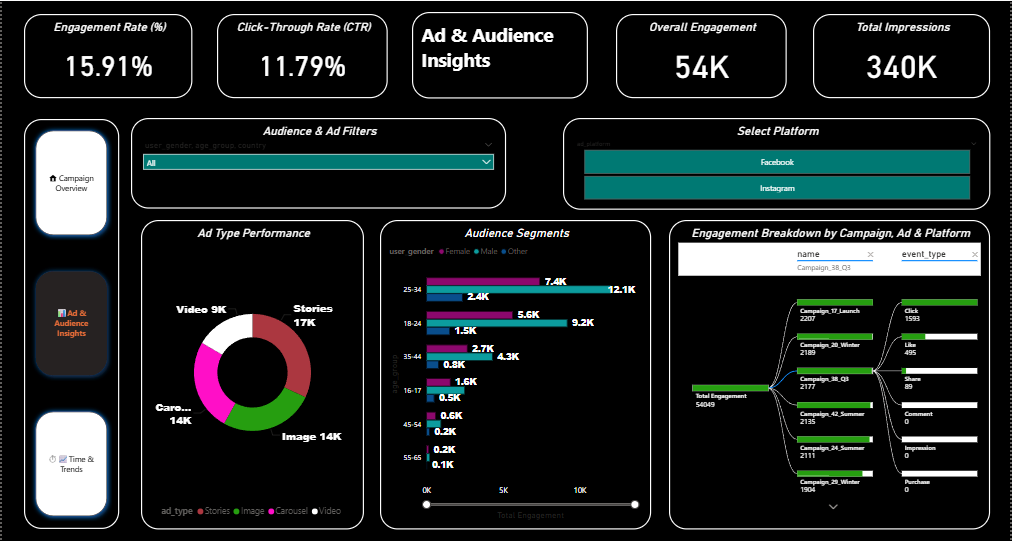

The page's visual inventory and layout, read from the dashboard file:
{"tool":"powerbi","page":{"name":"📊Ad & Audience Insights","canvas":[1736,930],"ordinal":1},"visuals":[{"type":"card","title":"Engagement Rate (%)","fields":{"Values":["Meaasure Table.Engagement Rate"]},"box":[37.6,22.6,289.9,144.9],"z":0},{"type":"card","title":"Total Impressions","fields":{"Values":["Meaasure Table.Total Impressions"]},"box":[1396.7,22.6,304.9,144.9],"z":1000},{"type":"card","title":"Overall Engagement","fields":{"Values":["Meaasure Table.Total Engagement"]},"box":[1057.9,22.6,293.6,144.9],"z":2000},{"type":"donutChart","title":"Ad Type Performance","fields":{"Category":["social_media_ad ads.ad_type"],"Y":["Meaasure Table.Total Engagement"]},"box":[239.1,376.5,384,532.7],"z":3000},{"type":"clusteredBarChart","title":"Audience Segments","fields":{"Category":["social_media_ad users.age_group"],"Y":["Meaasure Table.Total Engagement"],"Series":["social_media_ad users.user_gender"]},"box":[651.3,376.5,466.8,532.7],"z":4000},{"type":"decompositionTreeVisual","title":"Engagement Breakdown by Campaign, Ad & Platform","fields":{"Analyze":["Meaasure Table.Total Engagement"],"ExplainBy":["social_media_ad campaigns.name","social_media_ad adevents.event_type","social_media_ad ads.ad_platform","social_media_ad ads.ad_id"]},"box":[1148.2,376.5,553.4,532.7],"z":5000},{"type":"slicer","title":"Select Platform","fields":{"Values":["social_media_ad ads.ad_platform"]},"box":[965.6,201.4,736,158.1],"z":6000},{"type":"slicer","title":"Audience & Ad Filters","fields":{"Values":["social_media_ad users.user_gender","social_media_ad users.age_group","social_media_ad users.country"]},"box":[222.1,201.4,645.6,156.2],"z":7000},{"type":"pageNavigator","box":[37.6,203.3,163.8,705.9],"z":8000},{"type":"card","title":"Click-Through Rate (CTR)","fields":{"Values":["Meaasure Table.CTR"]},"box":[370.8,22.6,293.6,144.9],"z":9000},{"type":"textbox","box":[705.9,18.8,303.1,148.7],"z":10000}]}

Visuals, with their boxes in screenshot pixels (x1, y1, x2, y2), scaled from the page's 1736x930 canvas onto the 1012x541 screenshot:
"Engagement Rate (%)" card: <bbox>22, 13, 191, 97</bbox>
"Total Impressions" card: <bbox>814, 13, 992, 97</bbox>
"Overall Engagement" card: <bbox>617, 13, 788, 97</bbox>
"Ad Type Performance" donutChart: <bbox>139, 219, 363, 529</bbox>
"Audience Segments" clusteredBarChart: <bbox>380, 219, 652, 529</bbox>
"Engagement Breakdown by Campaign, Ad & Platform" decompositionTreeVisual: <bbox>669, 219, 992, 529</bbox>
"Select Platform" slicer: <bbox>563, 117, 992, 209</bbox>
"Audience & Ad Filters" slicer: <bbox>129, 117, 506, 208</bbox>
pageNavigator: <bbox>22, 118, 117, 529</bbox>
"Click-Through Rate (CTR)" card: <bbox>216, 13, 387, 97</bbox>
textbox: <bbox>412, 11, 588, 97</bbox>
